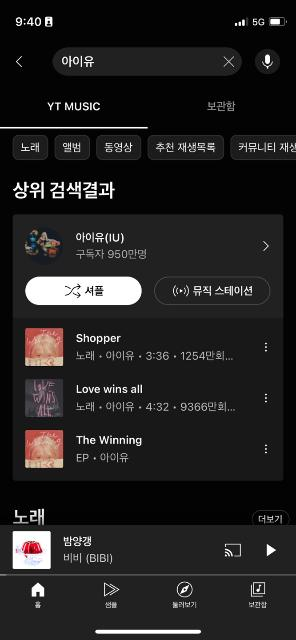Bottom_Navigation: (0, 574, 296, 640)
Card: (12, 214, 284, 316)
EditText: (54, 48, 240, 76)
Icon: (64, 283, 82, 299), (178, 582, 194, 598), (225, 543, 241, 559), (172, 284, 190, 298), (31, 582, 45, 598), (250, 584, 266, 598), (104, 582, 118, 596), (224, 56, 236, 68), (266, 544, 276, 556), (16, 56, 24, 68), (264, 240, 268, 252), (264, 444, 268, 454), (264, 342, 268, 352), (265, 392, 267, 403)
Image: (25, 378, 63, 418), (25, 328, 63, 366), (25, 430, 63, 468), (14, 531, 50, 569), (26, 227, 62, 263)
ImageButton: (254, 48, 282, 74)
List: (13, 316, 283, 479)
Multi_Tab: (0, 92, 296, 126)
Text: (76, 332, 234, 362), (76, 384, 236, 412), (76, 435, 142, 465), (76, 232, 146, 260), (14, 182, 116, 200), (64, 534, 113, 566), (156, 142, 216, 154), (195, 286, 253, 296), (48, 101, 100, 111), (14, 509, 44, 525), (61, 56, 94, 68), (238, 142, 276, 152), (105, 142, 133, 154), (208, 101, 236, 112), (64, 142, 81, 154), (258, 516, 282, 524), (21, 142, 40, 152), (85, 286, 102, 296), (173, 601, 197, 607), (249, 602, 267, 608), (106, 602, 116, 608), (36, 602, 40, 608)
TextButton: (149, 135, 224, 159), (97, 136, 141, 158), (14, 135, 48, 159), (56, 135, 90, 159)
TextImageButton: (25, 276, 142, 304), (154, 278, 270, 304), (172, 582, 196, 608), (250, 582, 266, 608), (31, 582, 45, 608), (104, 582, 118, 608)
Toolbar: (0, 40, 296, 82)
UpperTaskBar: (0, 1, 296, 40)
